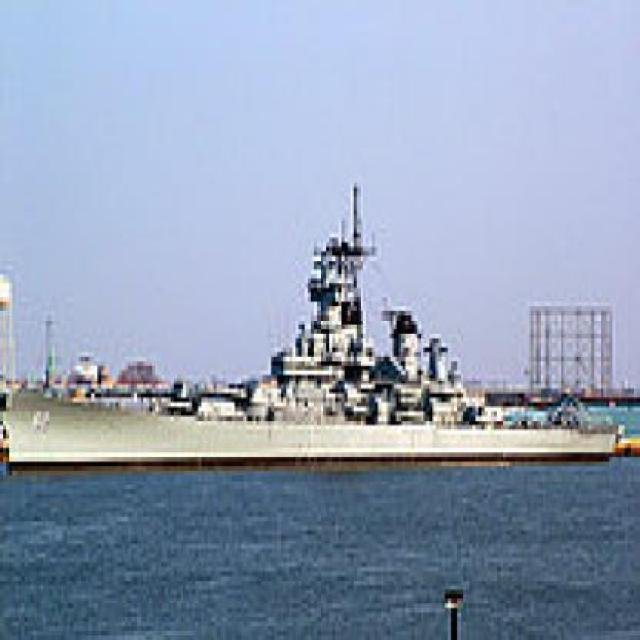warship2: (7, 157, 626, 491)
